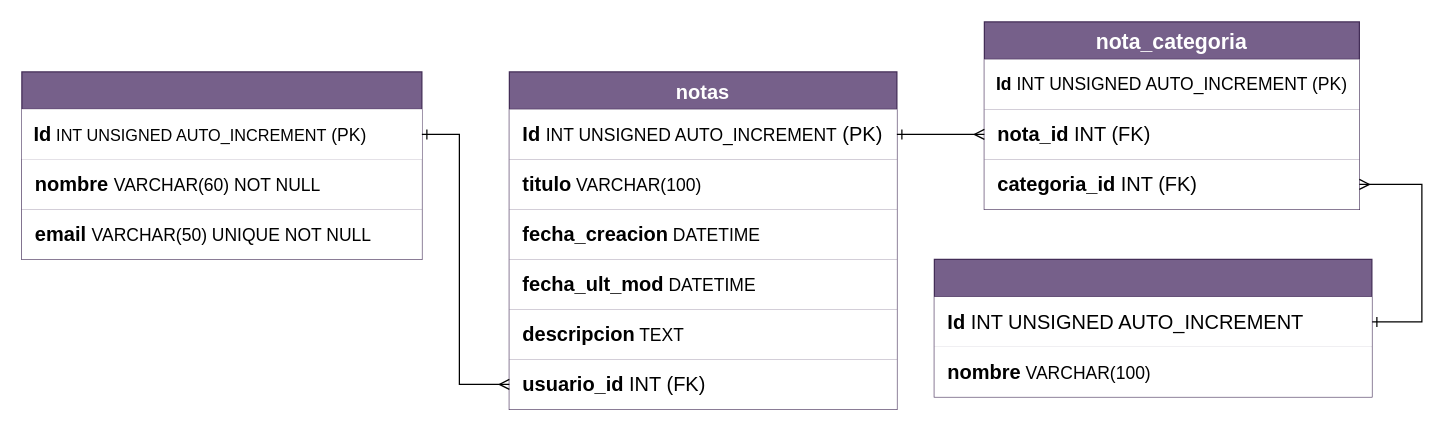
Image size: 1455x431. Some labels were removed from this diagram. The shapes that lost their labels are listed below. From the top down, each one's box as (x1, y1, x2, y2) in pixels, then its label:
(21, 71, 422, 259): usuarios
(933, 258, 1372, 397): categorias
